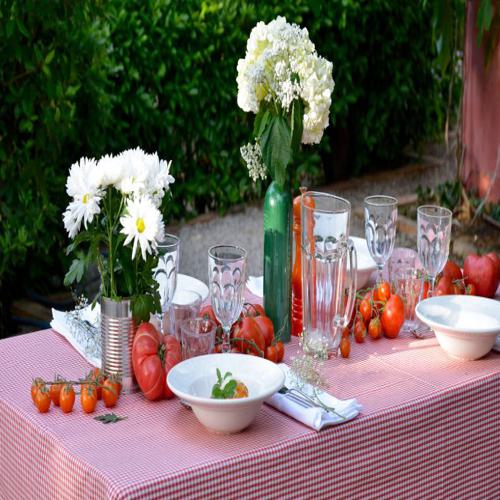copa: (206, 243, 246, 353), (417, 205, 447, 341), (365, 195, 397, 301), (147, 232, 177, 343)
vaso: (167, 292, 202, 340), (178, 317, 218, 357)
